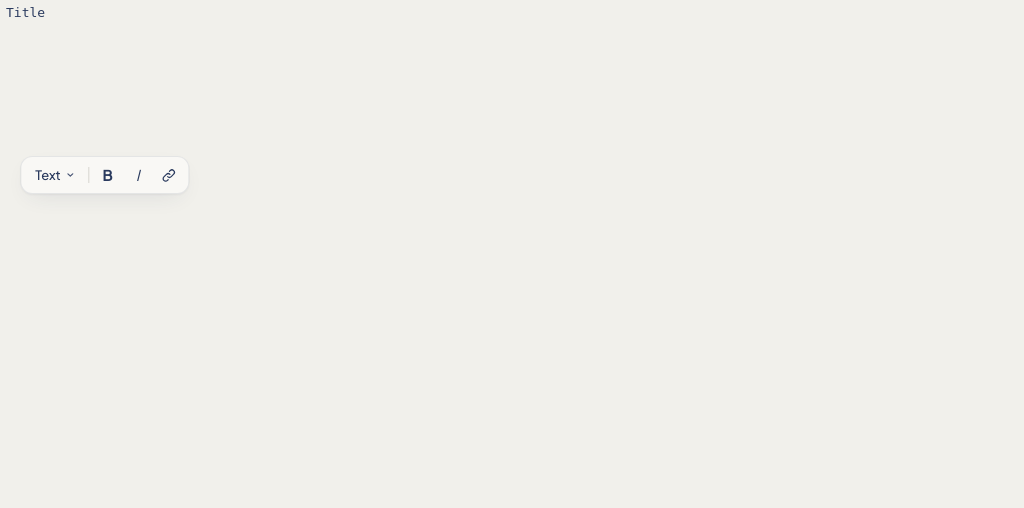
Test case: SelectionToolbar › closes the Turn into menu on Escape without changing the line
Click the button with aria-label "Turn into": [55, 175] box x1=25 y1=161 x2=85 y2=189
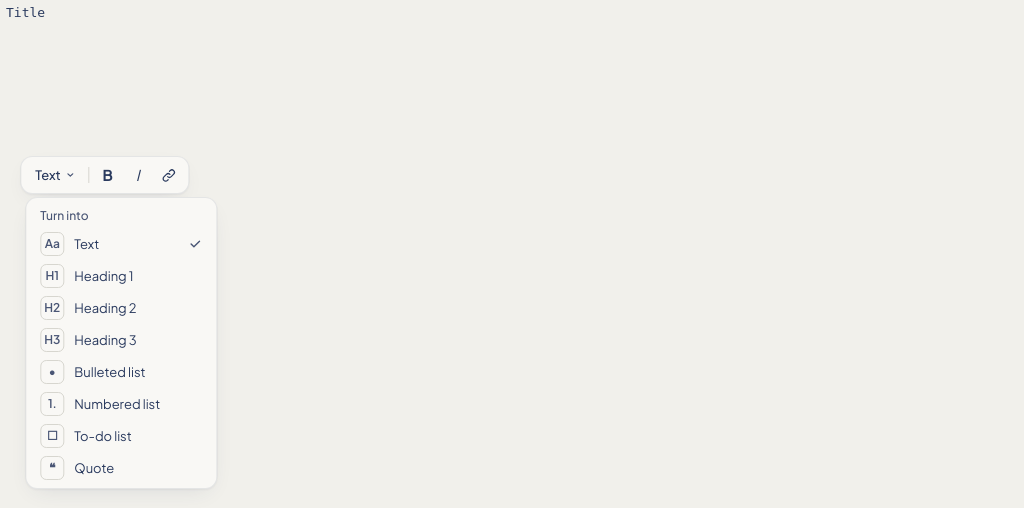
Press Escape
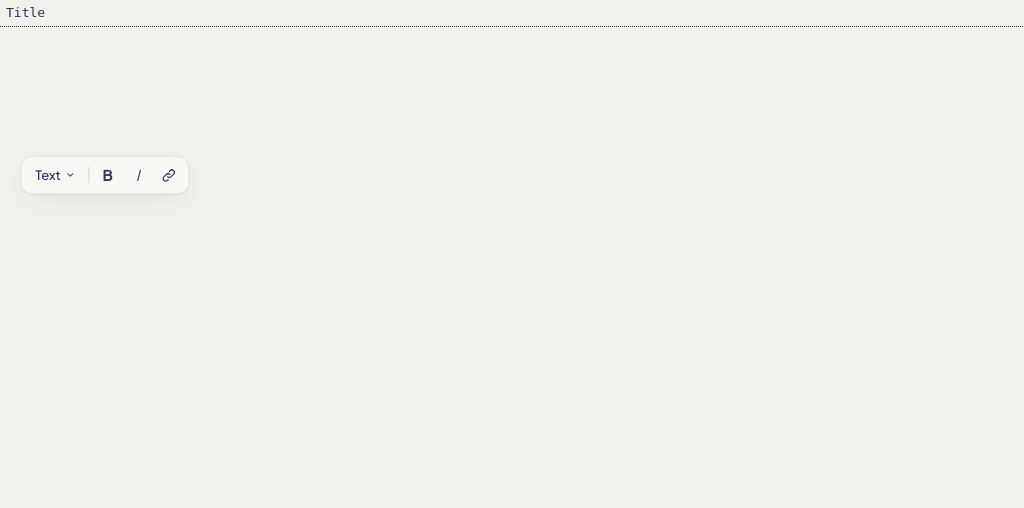
Expected: the text box labelled "Title" is shown, x1=6 y1=5 x2=45 y2=20
Expected: the menu is gone
